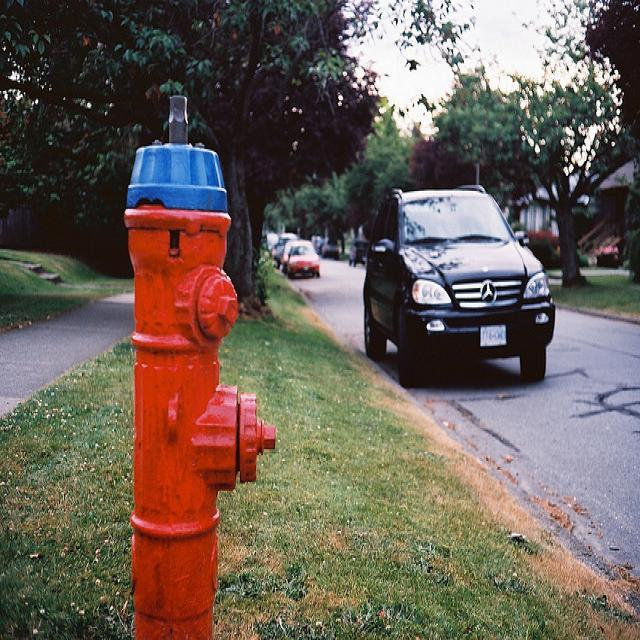fire_hydrant: (123, 94, 276, 638)
